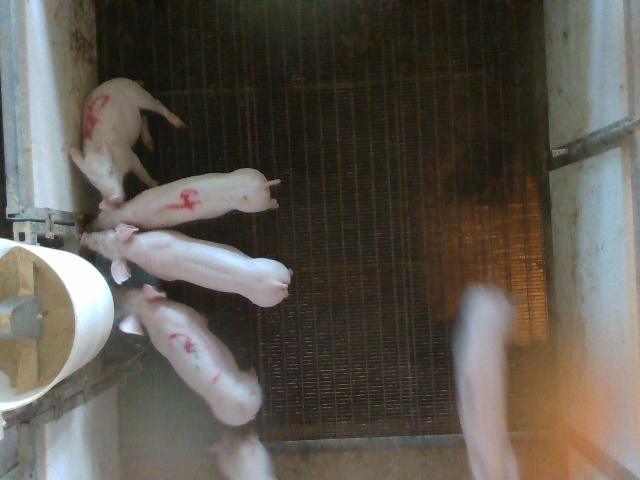pig-2: (452, 284, 518, 479)
pig-3: (114, 285, 261, 426)
pig-4: (92, 169, 280, 230)
pig-5: (69, 78, 184, 209)
